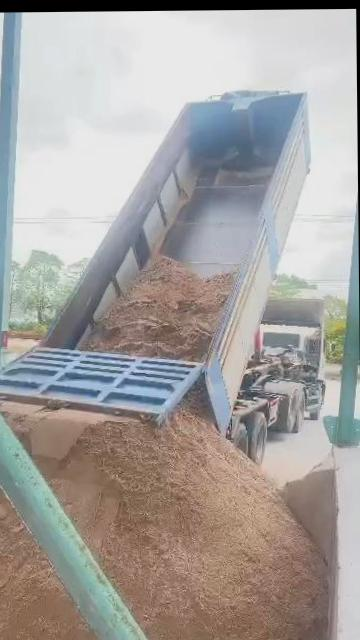sand: (7, 407, 326, 640), (0, 479, 123, 640), (83, 257, 235, 360), (283, 457, 335, 558), (182, 373, 213, 423)
